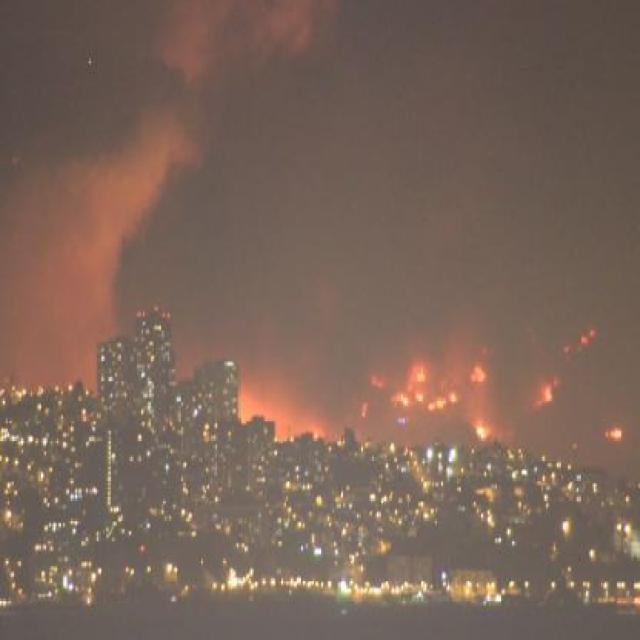Fire: (376, 356, 496, 441), (562, 324, 603, 350), (540, 374, 560, 402), (602, 424, 624, 442)
